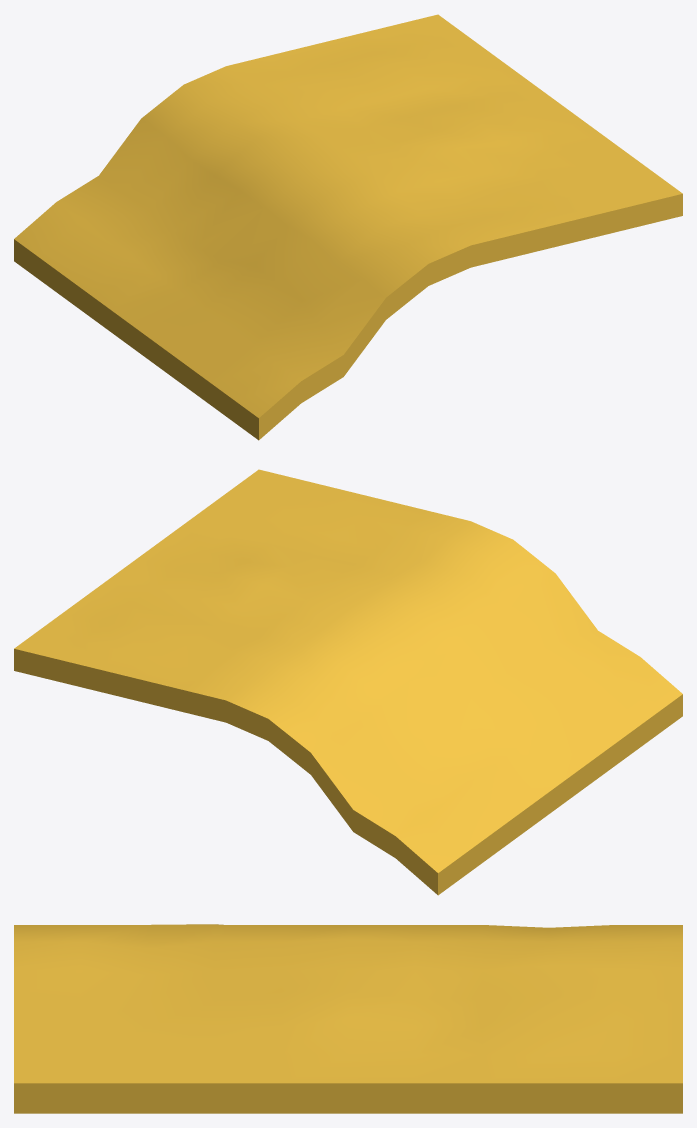
Rendered from Flach_-_Unten_-_Hugel_-_b_-_b_Medi_Poly.fbx.
3 renders of one model, top to bottom at view 1: azimuth 30°, elevation 25°; view 2: azimuth 150°, elevation 25°; view 3: azimuth 270°, elevation 25°, orthographic. The views are drawn at different scales.
Visible parts, largest first — view 1: Flach - Unten - Hügle b - b001; view 2: Flach - Unten - Hügle b - b001; view 3: Flach - Unten - Hügle b - b001.
Part boxes in pixels (left/top/right/bottom): Flach - Unten - Hügle b - b001: left=14, top=14, right=682, bottom=440; Flach - Unten - Hügle b - b001: left=14, top=469, right=682, bottom=895; Flach - Unten - Hügle b - b001: left=14, top=924, right=682, bottom=1113.
Bounding box in the file's own units: 394 × 133 × 394.
